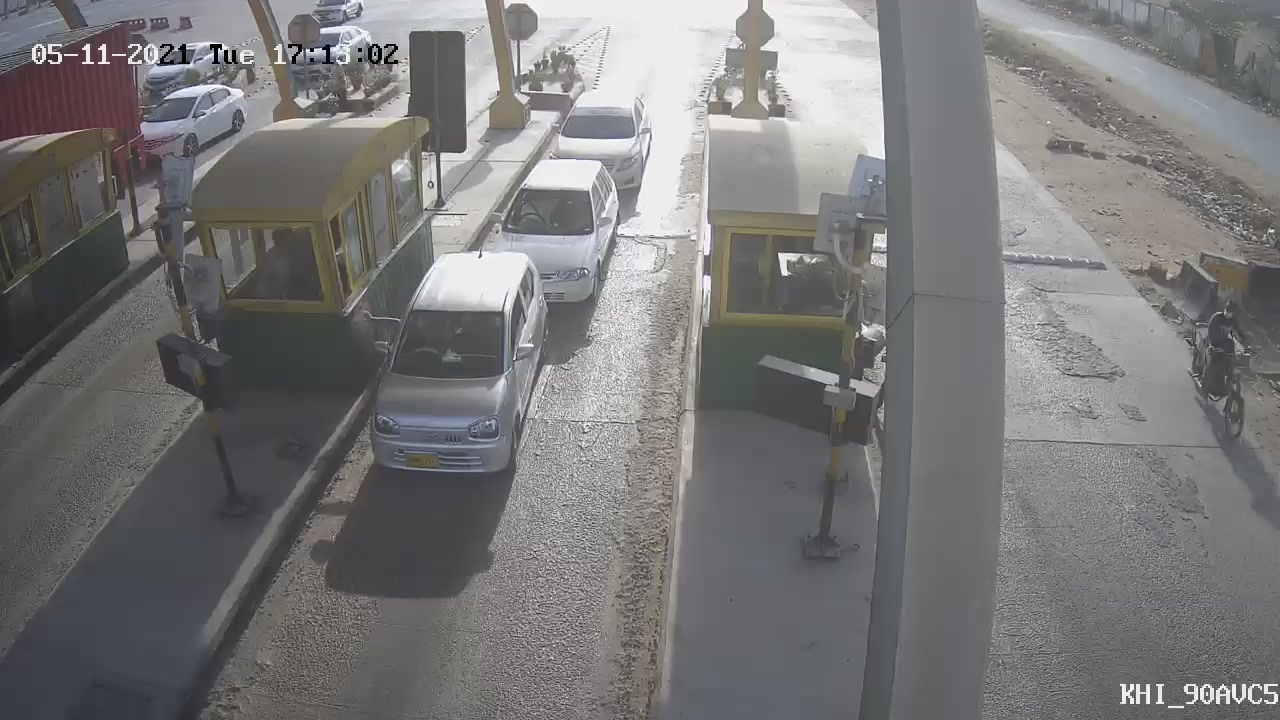F1: (353, 236, 569, 488), (469, 146, 638, 317), (535, 78, 663, 209)
